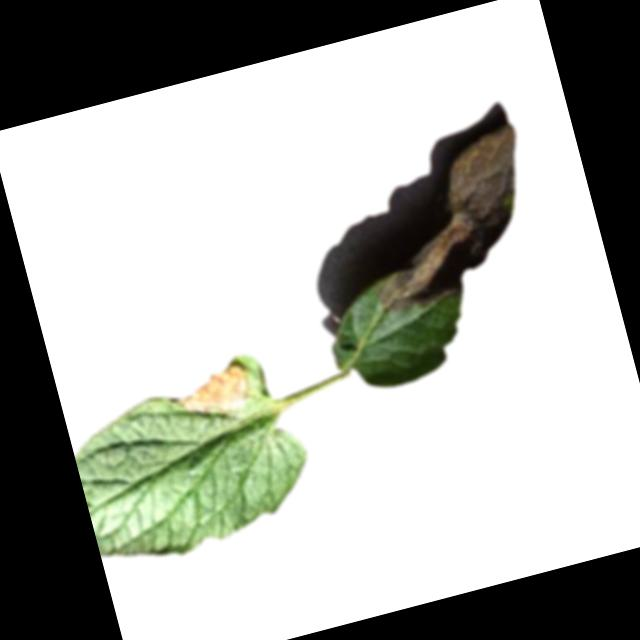Late_blight: (341, 123, 554, 321), (174, 357, 255, 419)
